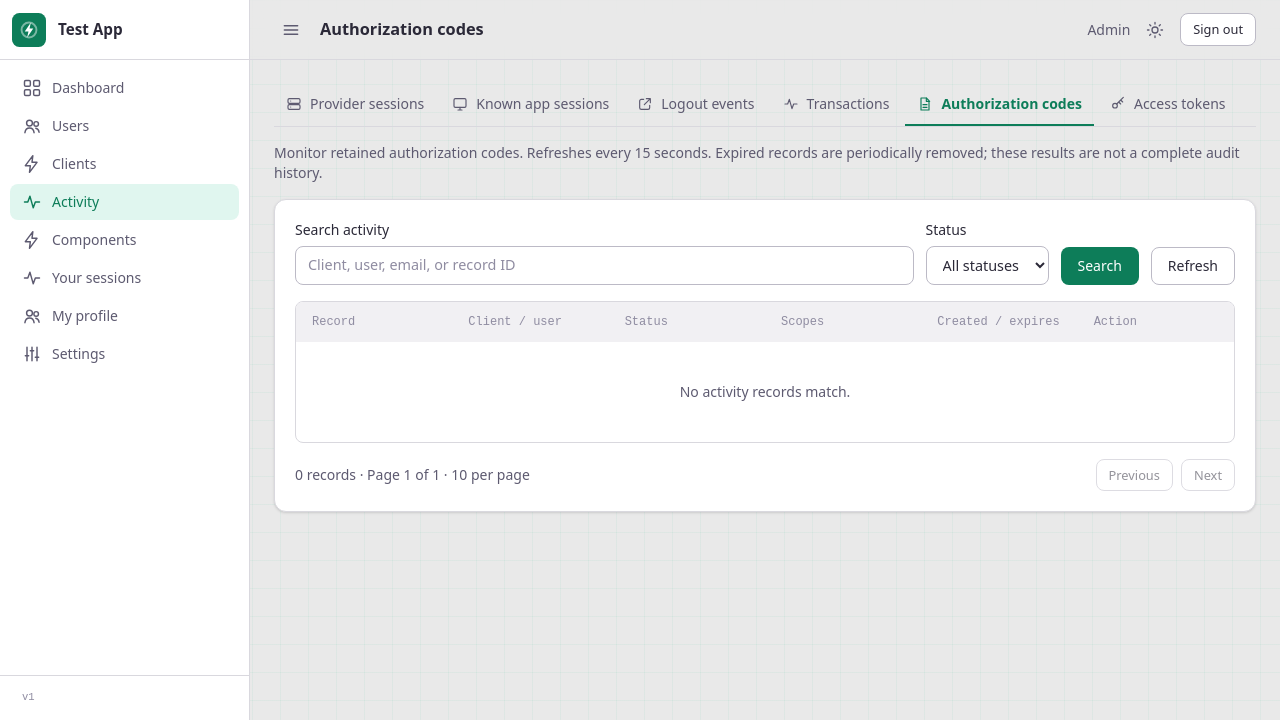
Test case: admin activity monitoring › shows empty and failed loading states
Expected: the text "No activity records match." is shown, [296,342,1234,442]
Click the button "Refresh" at (1193, 266), box [1151,247,1235,285]
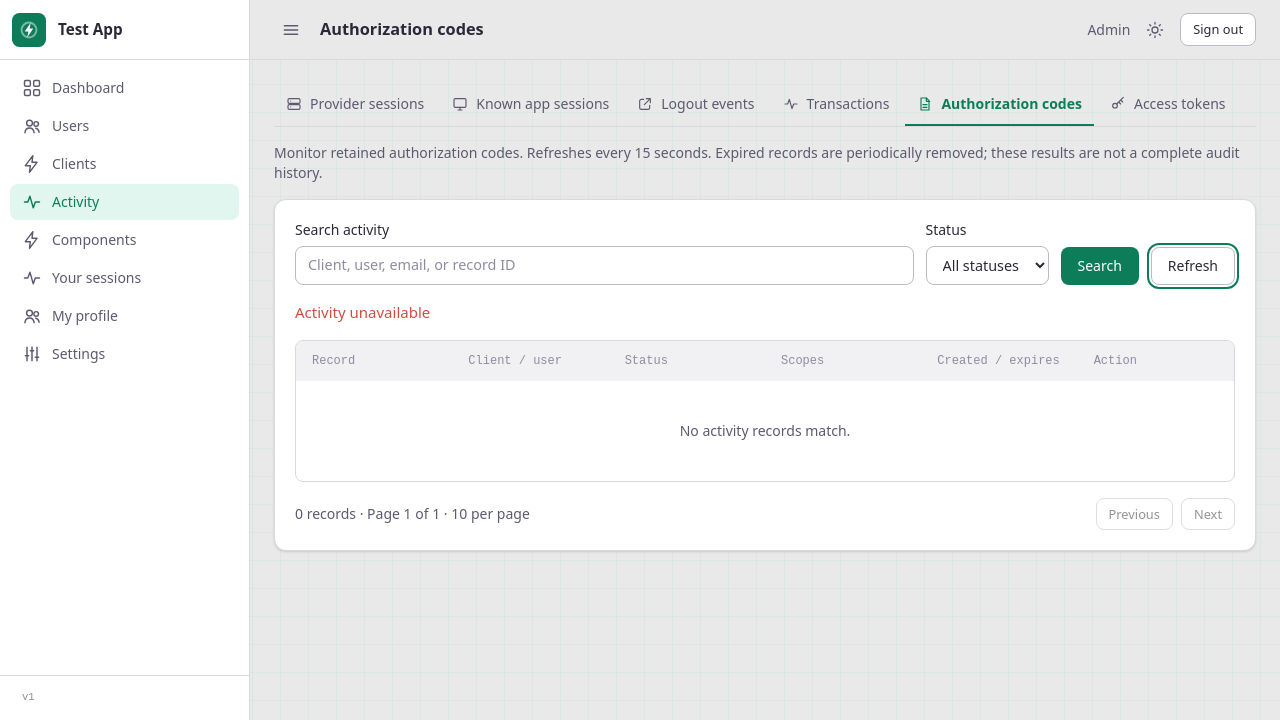
Expected: the message reads "Activity unavailable", [295,302,430,322]
